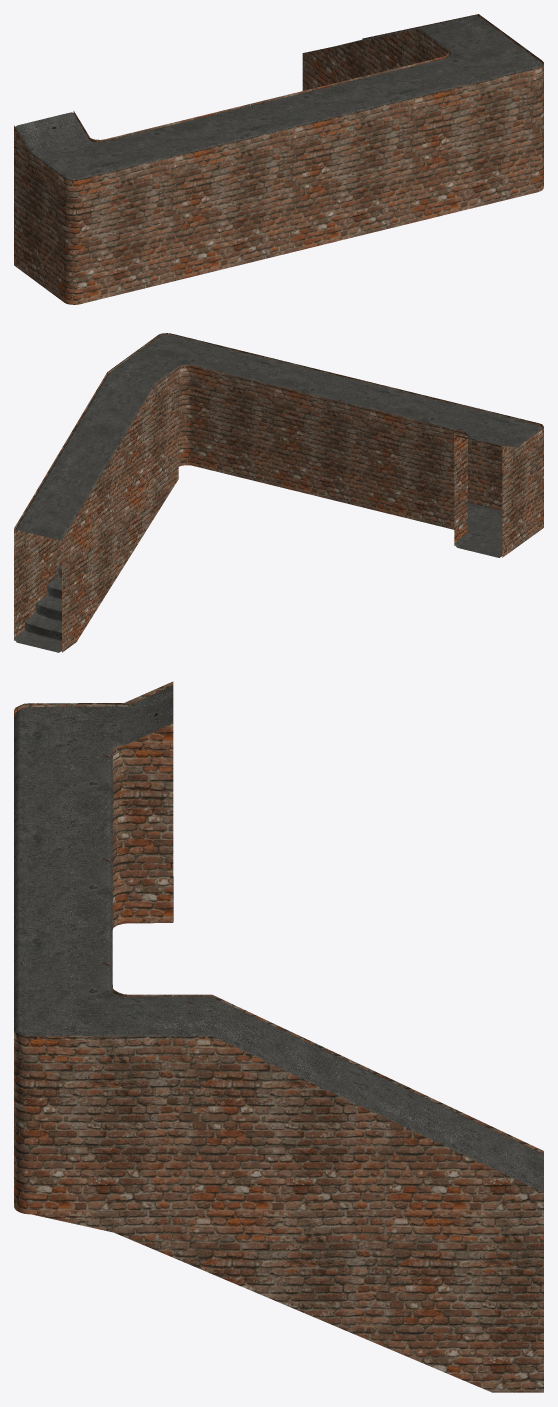
3 views of the same model, one above another, from view 1: azimuth 30°, elevation 25°; view 2: azimuth 150°, elevation 25°; view 3: azimuth 270°, elevation 25° (orthographic). The views are drawn at different scales.
Parts seen in each view (by area): view 1: outer_wall, ceiling, inner_wall; view 2: inner_wall, ceiling, outer_wall, floor; view 3: outer_wall, ceiling, inner_wall.
Part boxes in pixels (x1,y1,x2,y2): outer_wall: (14, 14, 543, 304); ceiling: (15, 15, 542, 183); inner_wall: (73, 28, 449, 142); inner_wall: (62, 365, 467, 652); ceiling: (14, 334, 542, 541); outer_wall: (14, 333, 543, 640); floor: (14, 461, 502, 652); outer_wall: (14, 681, 543, 1392); ceiling: (14, 685, 543, 1192); inner_wall: (112, 723, 543, 1153).
Bounding box in the file's own units: 8 × 4.26 × 5.38.
